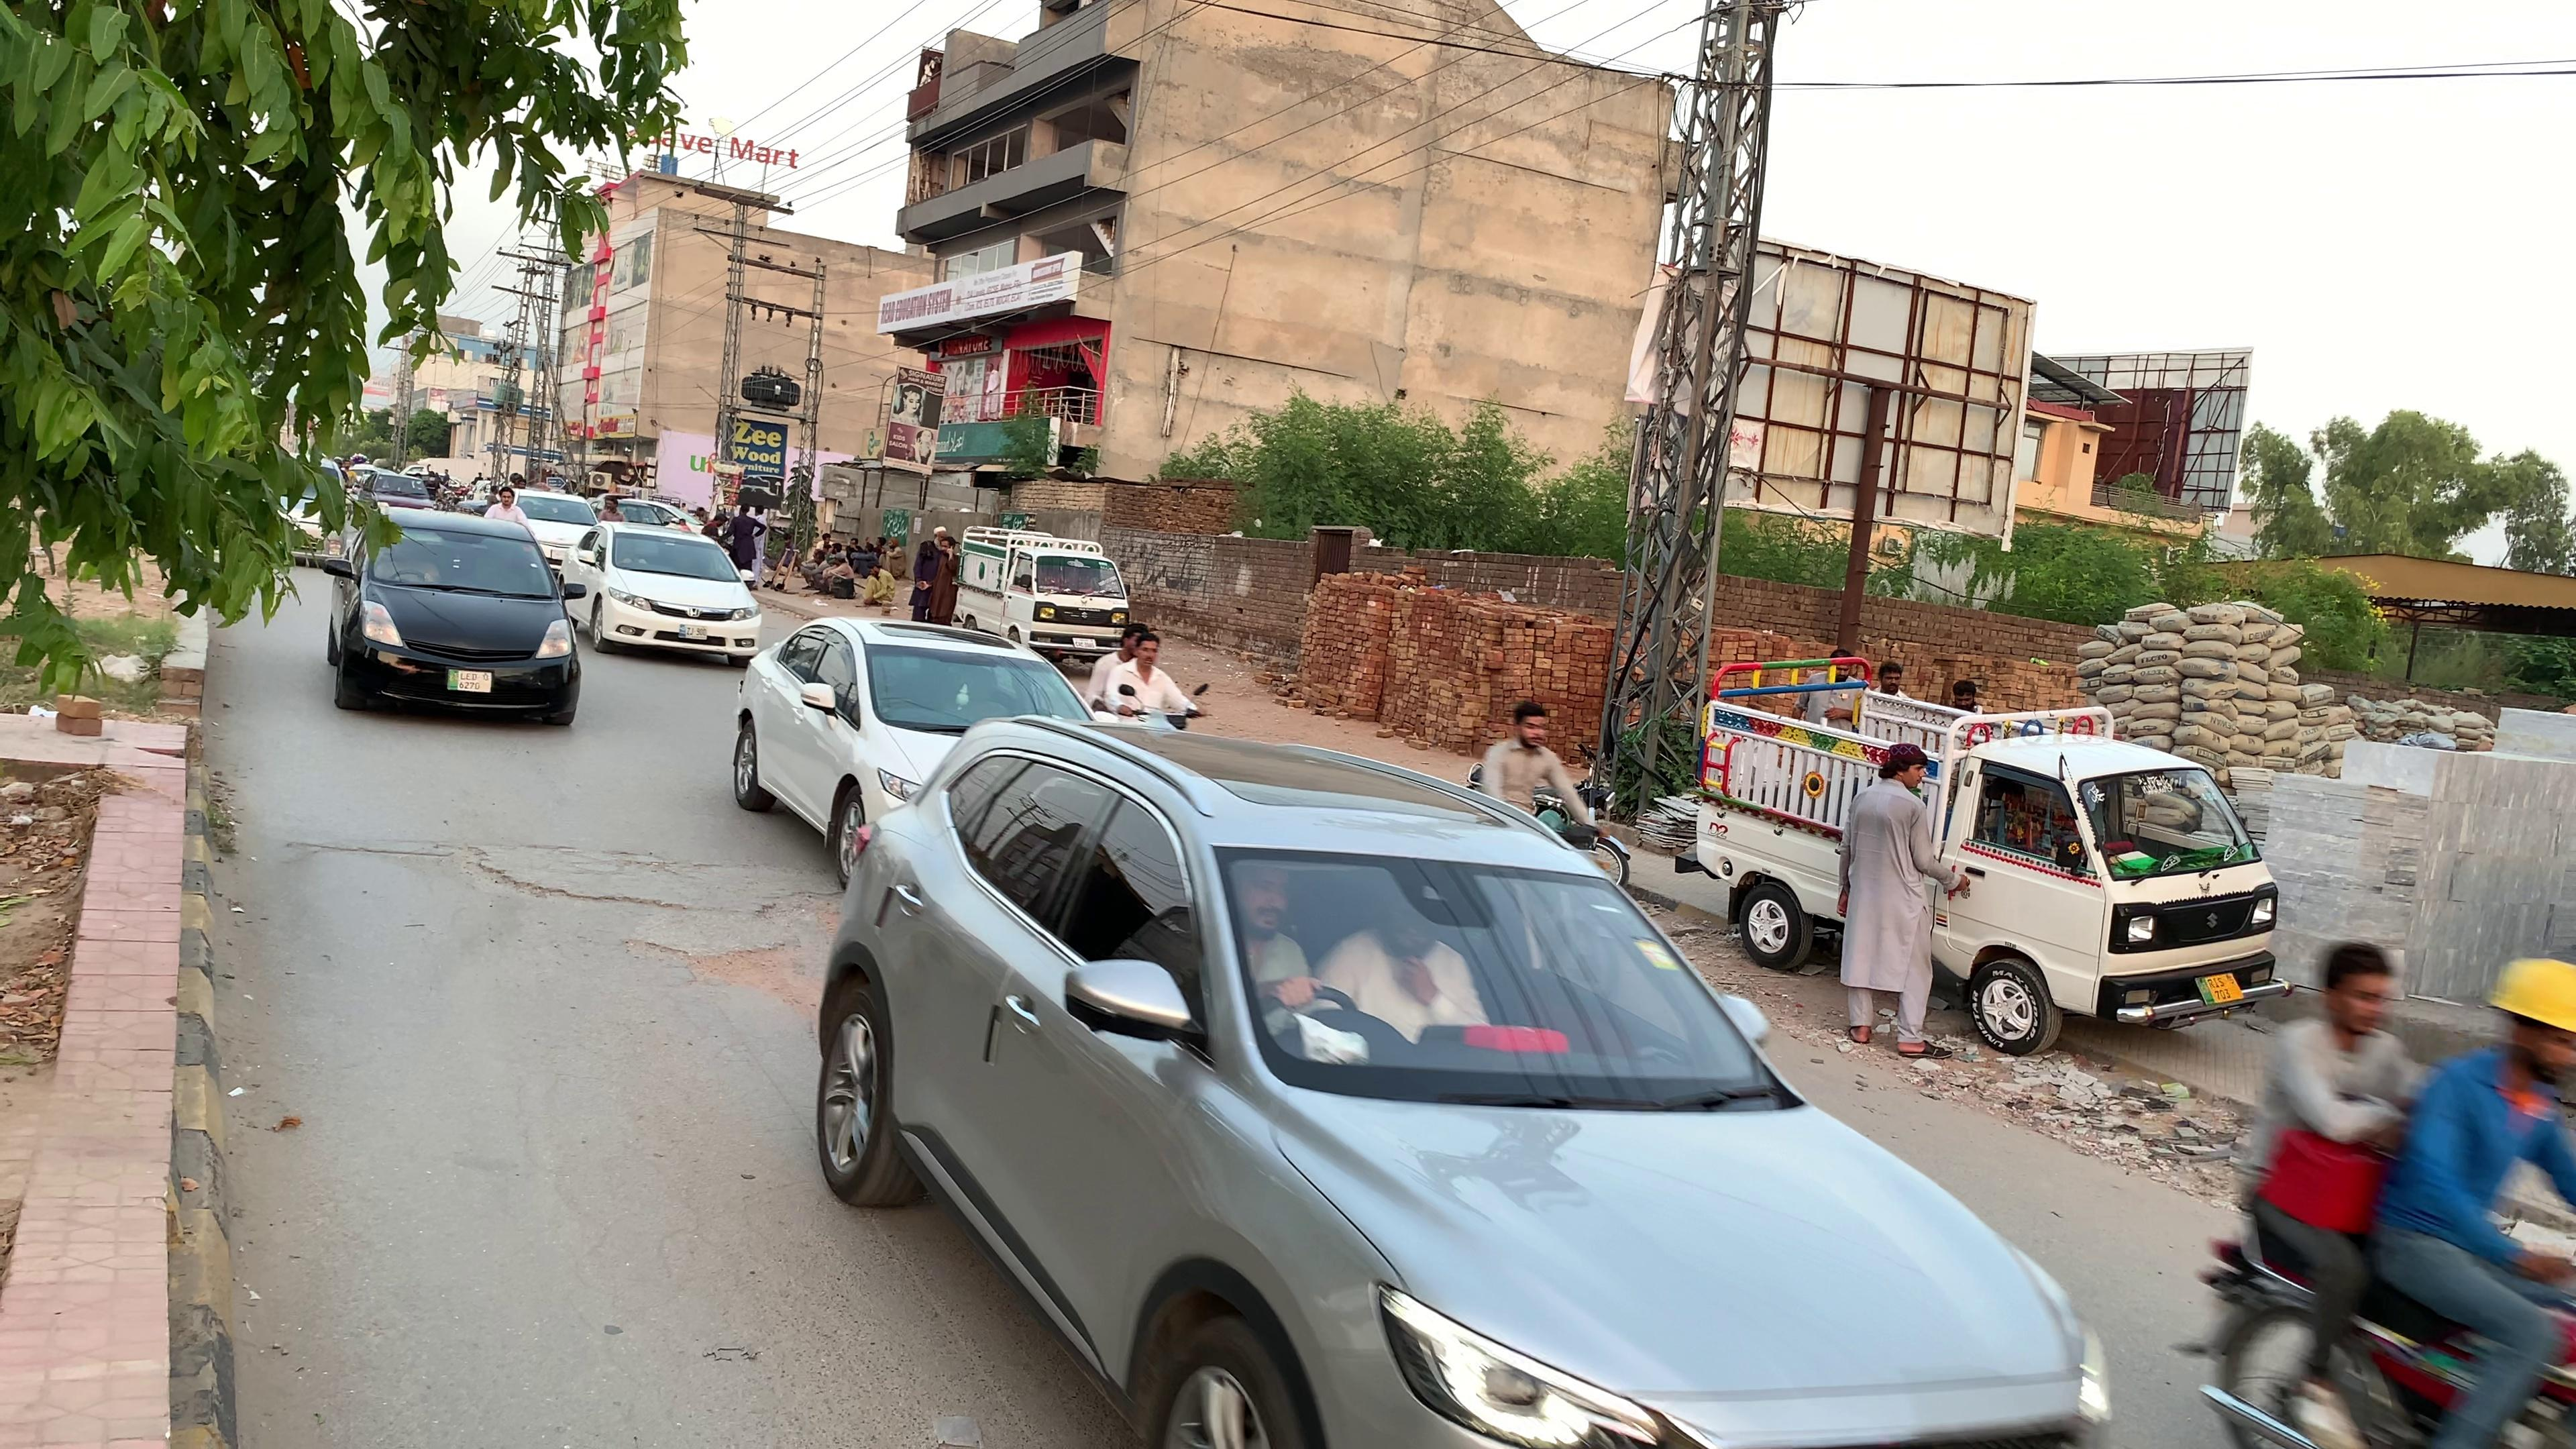windshield: (1191, 835, 1838, 1113)
